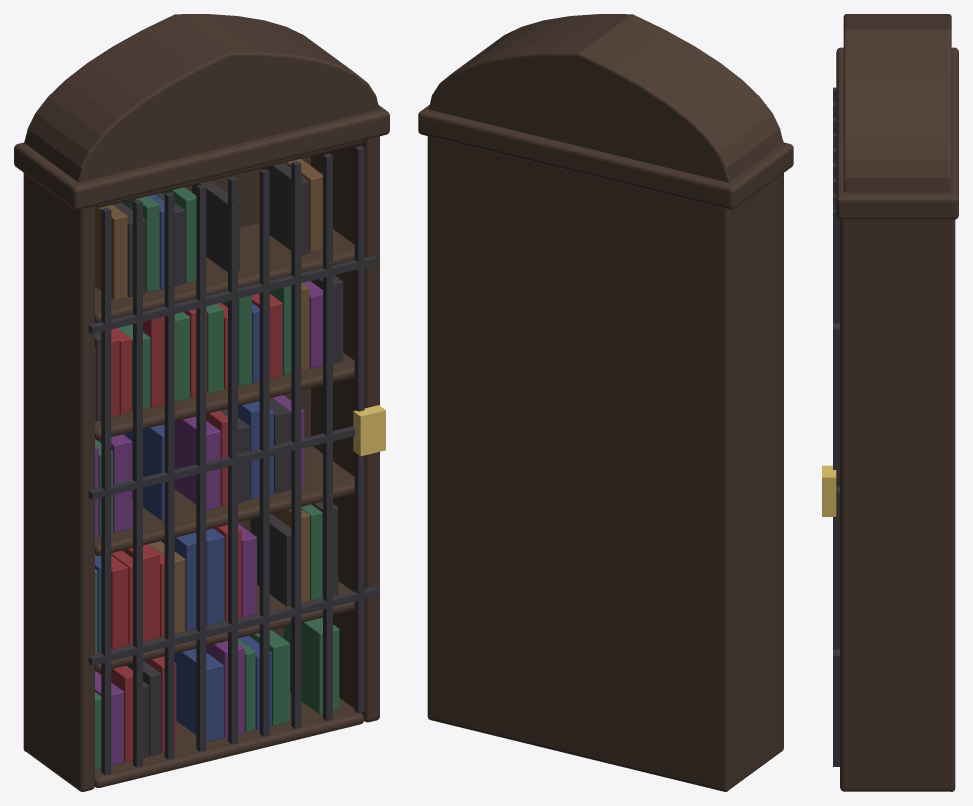
File: bookshelf_locked_cage.glb
3 views of the same model, side by side, from view 1: azimuth 30°, elevation 25°; view 2: azimuth 150°, elevation 25°; view 3: azimuth 270°, elevation 25° (orthographic).
Parts seen in each view (by area): view 1: GD_bookshelf_locked_cage__m0, GD_bookshelf_locked_cage__m7, GD_bookshelf_locked_cage__m5, GD_bookshelf_locked_cage__m3, GD_bookshelf_locked_cage__m2, GD_bookshelf_locked_cage__m4, GD_bookshelf_locked_cage__m1, GD_bookshelf_locked_cage__m6, GD_bookshelf_locked_cage__m8; view 2: GD_bookshelf_locked_cage__m0; view 3: GD_bookshelf_locked_cage__m0, GD_bookshelf_locked_cage__m7, GD_bookshelf_locked_cage__m8.
Part boxes in pixels (left/top/right/bottom): GD_bookshelf_locked_cage__m0: left=14, top=14, right=389, bottom=791; GD_bookshelf_locked_cage__m7: left=88, top=146, right=377, bottom=775; GD_bookshelf_locked_cage__m5: left=95, top=187, right=339, bottom=769; GD_bookshelf_locked_cage__m3: left=95, top=163, right=343, bottom=757; GD_bookshelf_locked_cage__m2: left=95, top=293, right=282, bottom=762; GD_bookshelf_locked_cage__m4: left=95, top=194, right=273, bottom=742; GD_bookshelf_locked_cage__m1: left=95, top=281, right=322, bottom=765; GD_bookshelf_locked_cage__m6: left=95, top=159, right=322, bottom=633; GD_bookshelf_locked_cage__m8: left=353, top=405, right=385, bottom=456; GD_bookshelf_locked_cage__m0: left=418, top=14, right=793, bottom=791; GD_bookshelf_locked_cage__m0: left=836, top=14, right=958, bottom=791; GD_bookshelf_locked_cage__m7: left=833, top=87, right=839, bottom=766; GD_bookshelf_locked_cage__m8: left=822, top=465, right=836, bottom=516.
Size of the model in its own units: 1 by 2.12 by 0.38.
